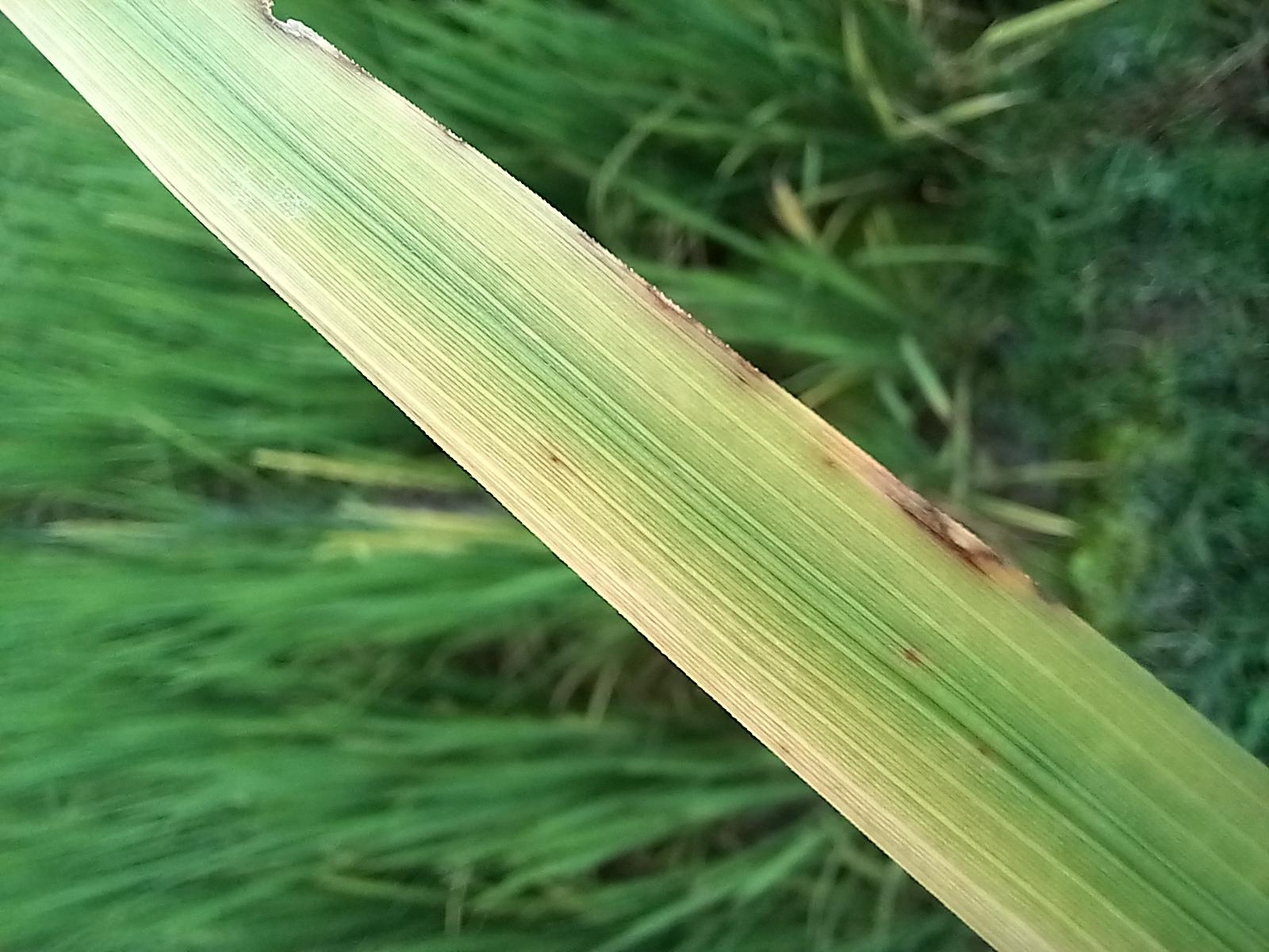LEAF BLAST: (501, 664, 623, 754)
